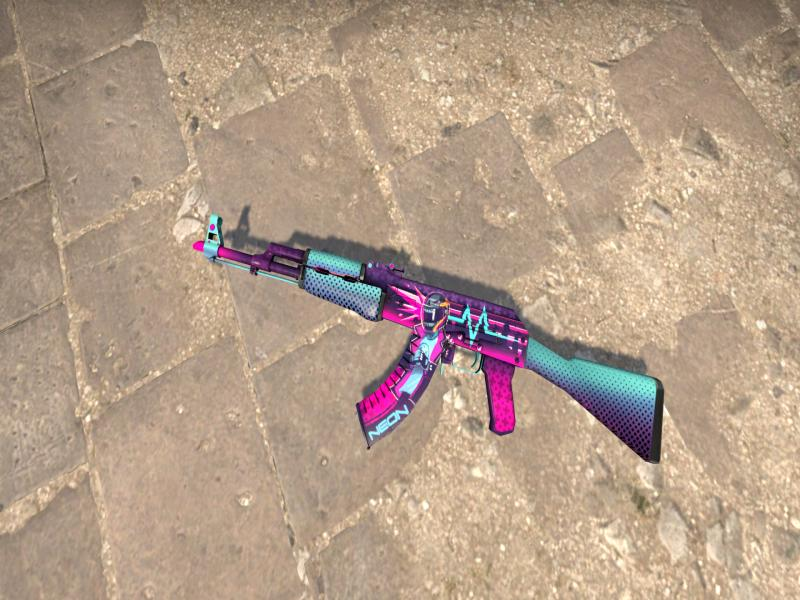AK47: (194, 217, 664, 462)
